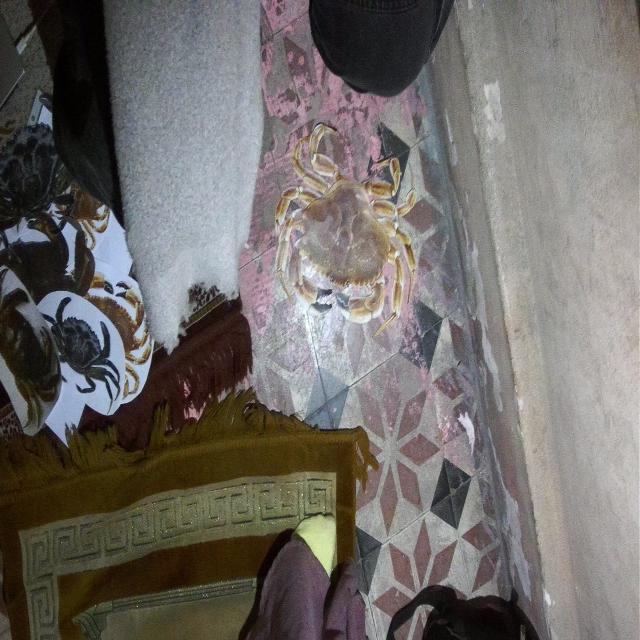European_Green_Crab: (33, 272, 129, 425), (0, 126, 70, 228)
